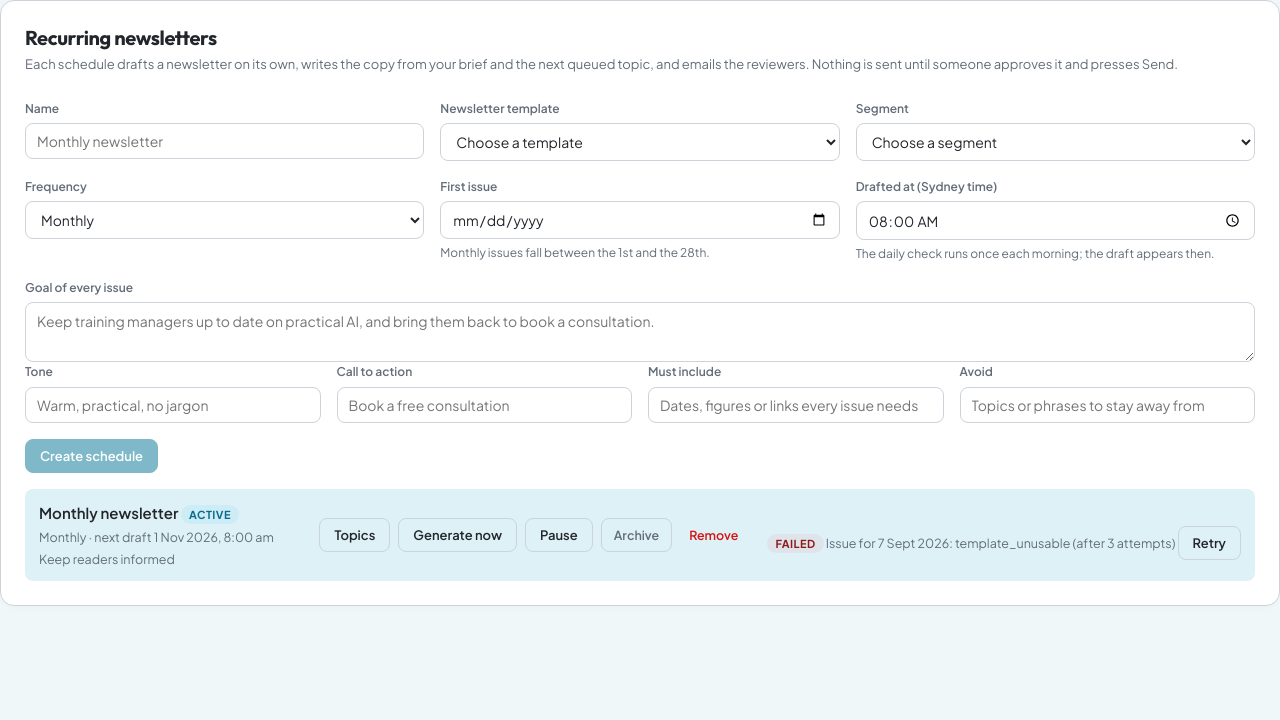
Test: NewsletterSchedules — occurrences that need attention (H12) › retries an issue and reports {"status":"in_review"}
Click the button with test id "retry-occurrence-o1" at (1209, 543), box left=1178, top=526, right=1241, bottom=560
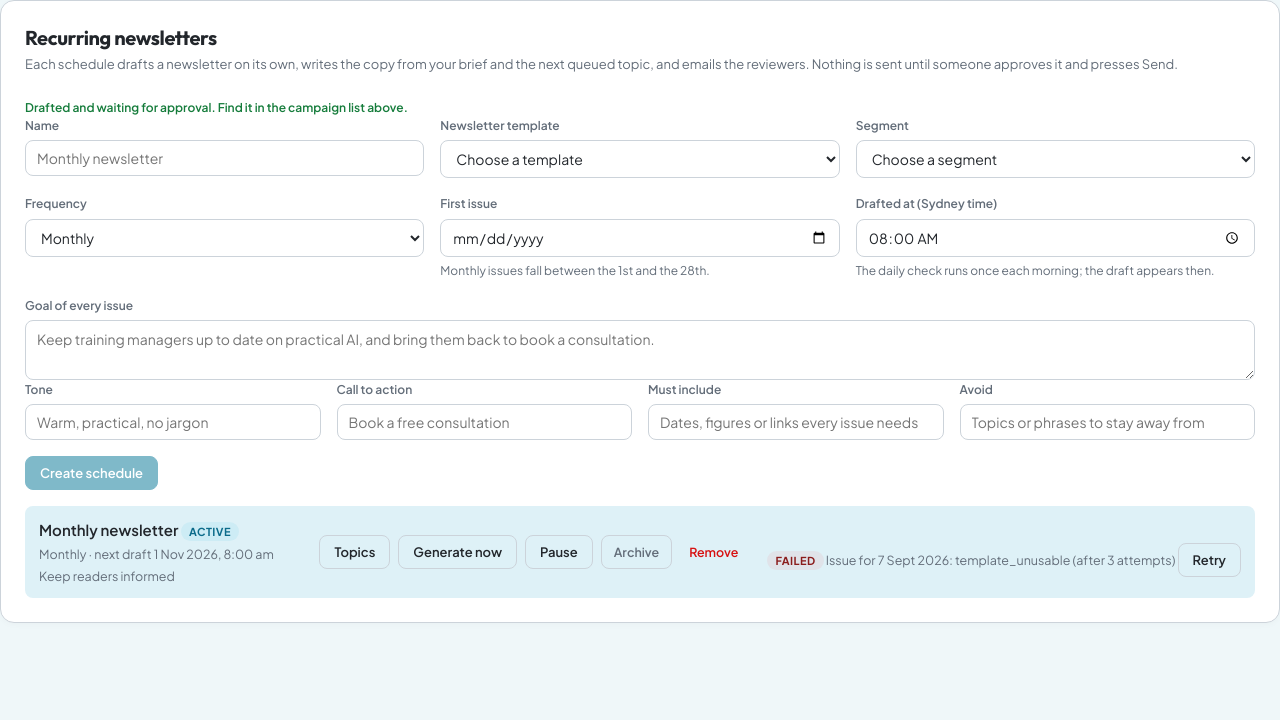
Now the text "Drafted and waiting for approval. Find it in the campaign list above." is shown, box left=25, top=100, right=408, bottom=115
